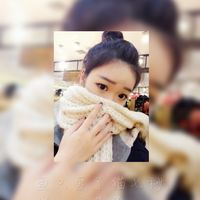face: (86, 57, 135, 126)
